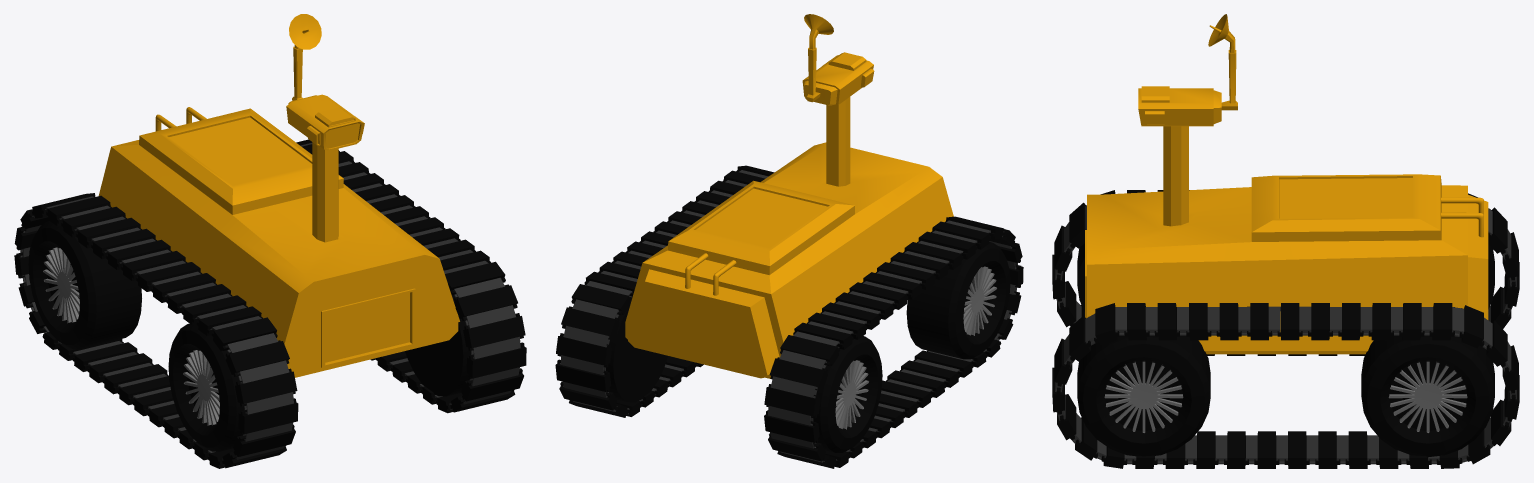
The model's file is rover.fbx.
The picture shows the model from 3 angles, left to right: view 1: azimuth 30°, elevation 25°; view 2: azimuth 150°, elevation 25°; view 3: azimuth 270°, elevation 25°; orthographic projection. The views are drawn at different scales.
Visible parts, largest first — view 1: rover, back_right_wheel, front_right_wheel, camera, front_left_wheel, left_track.008, right_track.008, right_track.006, left_track.006, left_track.010, right_track.010, right_track.004 (+25 smaller); view 2: rover, front_right_wheel, back_right_wheel, back_left_wheel, camera, left_track.046, right_track.046, left_track.048, right_track.048, left_track.050, right_track.050, left_track.044 (+24 smaller); view 3: rover, front_left_wheel, back_left_wheel, camera, left_track.004, left_track.050, left_track.052, left_track.066, left_track.032, left_track, left_track.030, left_track.062 (+27 smaller).
Part boxes in pixels (bbox=[...]): rover: bbox=[98, 107, 459, 377]; back_right_wheel: bbox=[28, 221, 141, 348]; front_right_wheel: bbox=[168, 323, 244, 451]; camera: bbox=[286, 46, 364, 150]; front_left_wheel: bbox=[405, 295, 470, 396]; left_track.008: bbox=[463, 313, 525, 350]; right_track.008: bbox=[235, 368, 297, 406]; right_track.006: bbox=[225, 340, 289, 376]; left_track.006: bbox=[454, 284, 517, 320]; left_track.010: bbox=[466, 342, 526, 378]; right_track.010: bbox=[238, 398, 298, 434]; right_track.004: bbox=[211, 317, 277, 350]; rover: bbox=[625, 97, 953, 378]; front_right_wheel: bbox=[906, 242, 1010, 359]; back_right_wheel: bbox=[813, 336, 882, 452]; back_left_wheel: bbox=[606, 298, 667, 402]; camera: bbox=[802, 47, 874, 106]; left_track.046: bbox=[556, 333, 611, 367]; right_track.046: bbox=[764, 384, 820, 418]; left_track.048: bbox=[561, 306, 619, 340]; right_track.048: bbox=[769, 357, 827, 391]; left_track.050: bbox=[571, 284, 631, 315]; right_track.050: bbox=[780, 335, 839, 366]; left_track.044: bbox=[555, 359, 611, 391]; rover: bbox=[1085, 126, 1488, 354]; front_left_wheel: bbox=[1077, 330, 1210, 456]; back_left_wheel: bbox=[1361, 335, 1494, 457]; camera: bbox=[1138, 50, 1237, 126]; left_track.004: bbox=[1094, 303, 1119, 345]; left_track.050: bbox=[1459, 305, 1484, 348]; left_track.052: bbox=[1429, 303, 1454, 340]; left_track.066: bbox=[1216, 303, 1241, 340]; left_track.032: bbox=[1345, 431, 1370, 468]; left_track: bbox=[1154, 303, 1179, 340]; left_track.030: bbox=[1315, 431, 1340, 468]; left_track.062: bbox=[1277, 303, 1302, 340].
Size of the model in its own units: 511 by 644 by 710.
